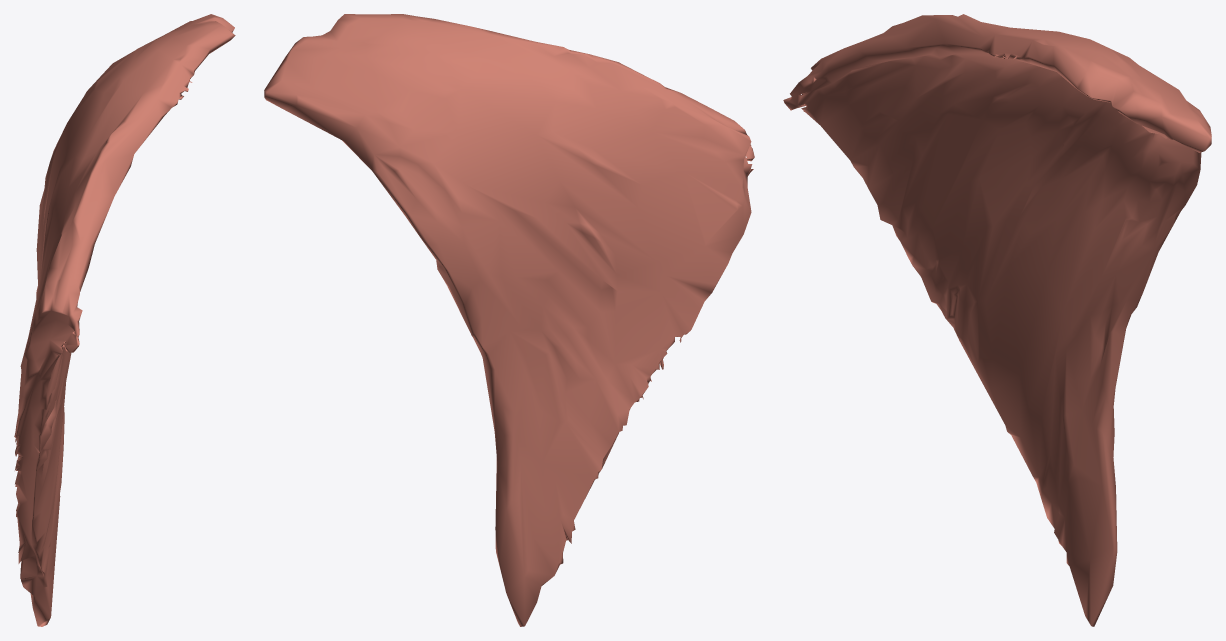
3 views of the same model, side by side, from view 1: azimuth 30°, elevation 25°; view 2: azimuth 150°, elevation 25°; view 3: azimuth 270°, elevation 25° (orthographic). The views are drawn at different scales.
Visible parts, largest first — view 1: 右侧髂尾肌; view 2: 右侧髂尾肌; view 3: 右侧髂尾肌.
Boxes of the visible parts, x1,y1,x2,y2 form: 右侧髂尾肌: (14,14,235,626); 右侧髂尾肌: (264,14,754,626); 右侧髂尾肌: (783,14,1211,626).
Bounding box in the file's own units: 0.0676 × 0.1116 × 0.0659.
